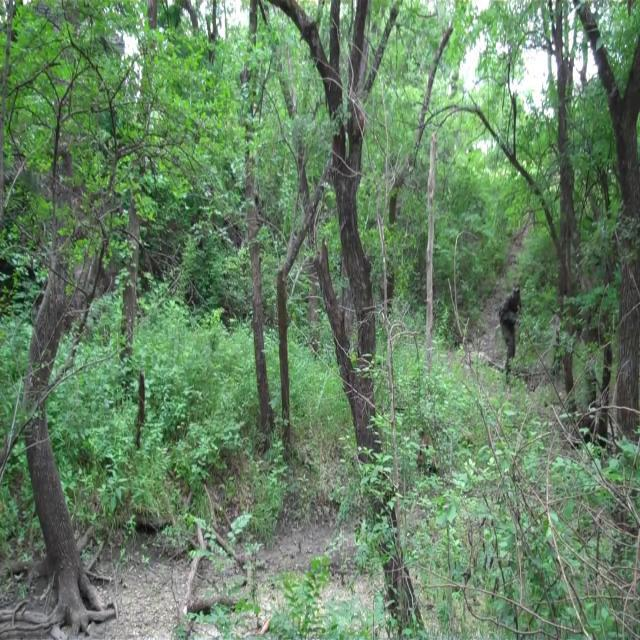MIL_Pax: (499, 279, 522, 384)
